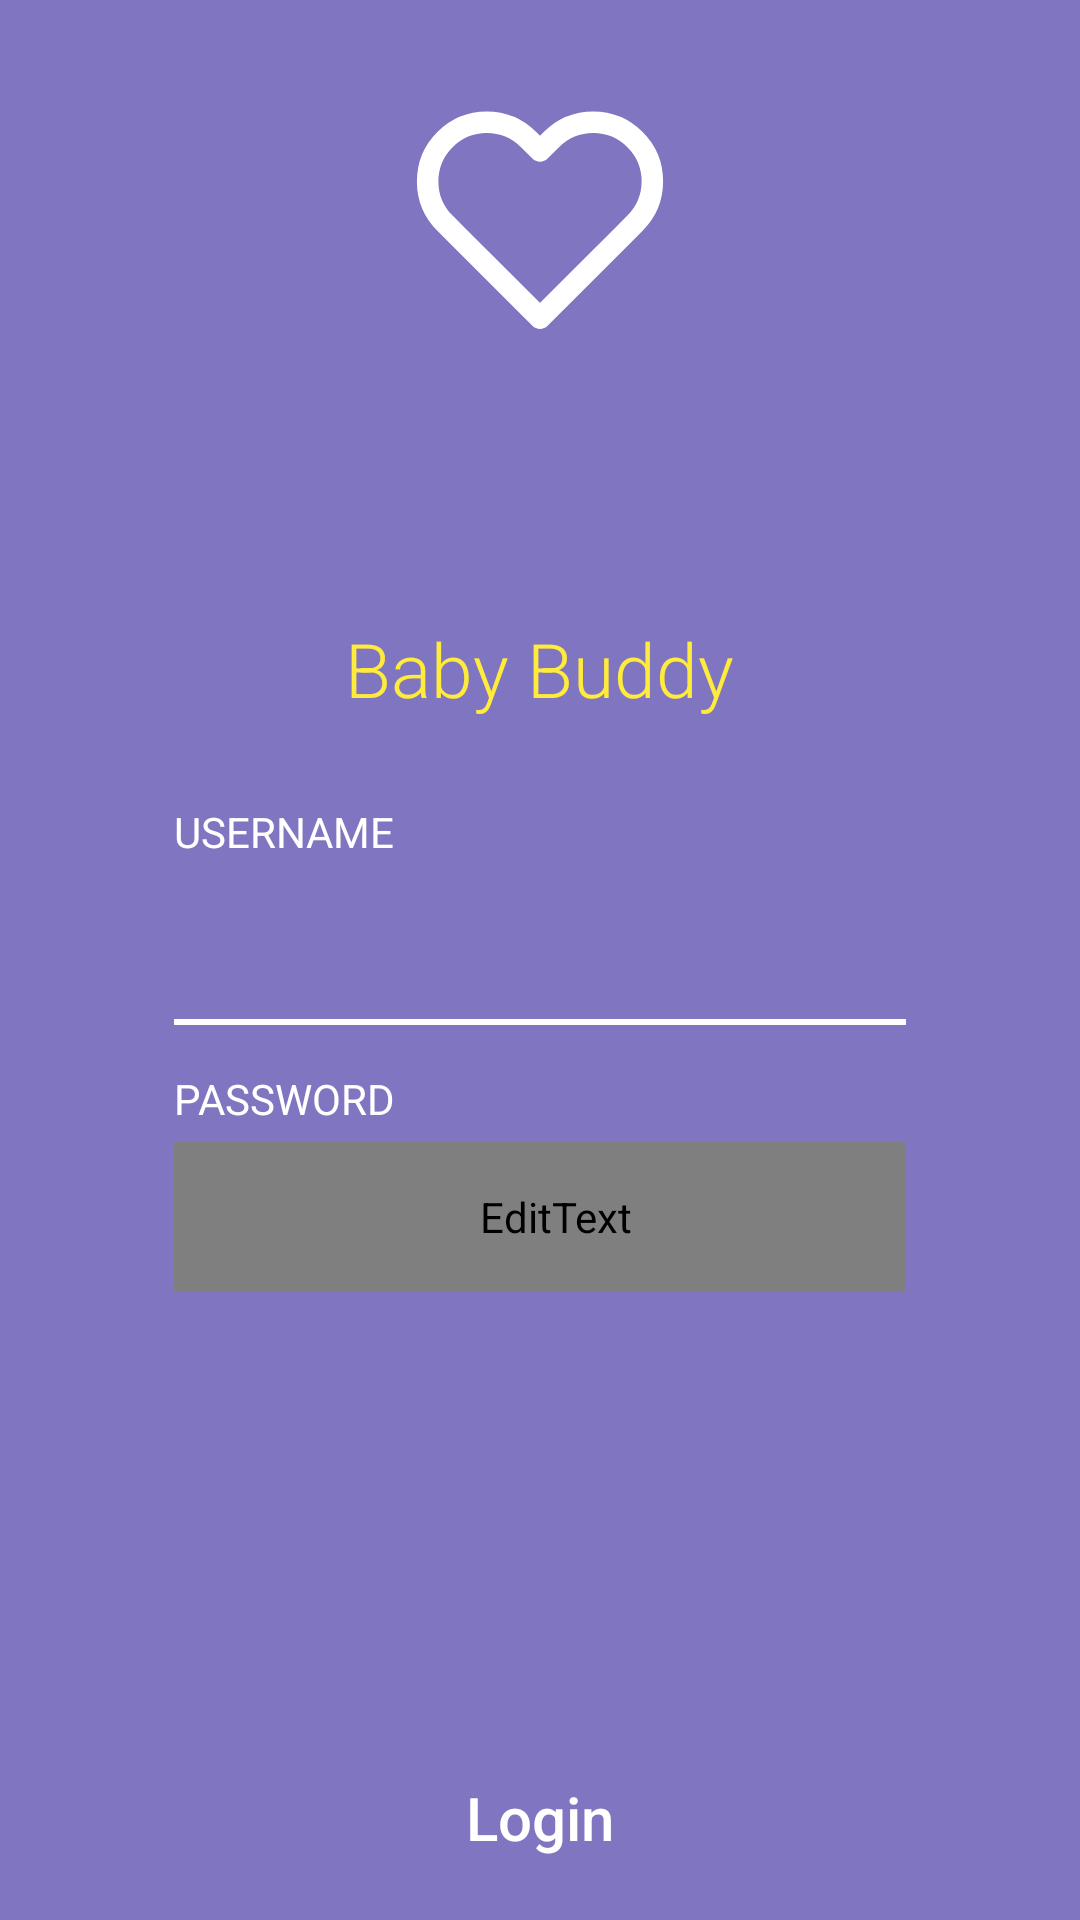

Icon click points for this 1080 x 1920 phone screenshot, format point (x, y):
heart: point (540, 220)
